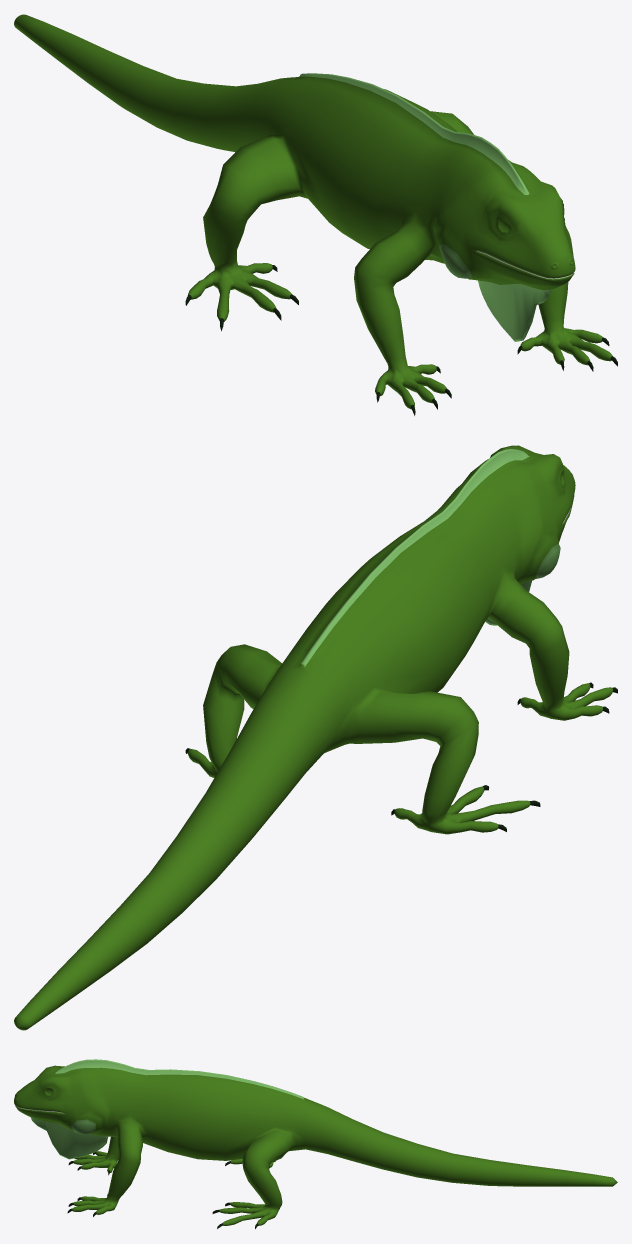
File: iguana_iguana.obj
3 renders of one model, top to bottom at view 1: azimuth 30°, elevation 25°; view 2: azimuth 150°, elevation 25°; view 3: azimuth 270°, elevation 25°, orthographic. The views are drawn at different scales.
Parts seen in each view (by area): view 1: iguana; view 2: iguana; view 3: iguana.
Part boxes in pixels (left/top/right/bottom): iguana: left=14, top=14, right=617, bottom=415; iguana: left=14, top=445, right=617, bottom=1030; iguana: left=14, top=1059, right=617, bottom=1228.
Size of the model in its own units: 0.2585 by 0.1771 by 0.7636.
